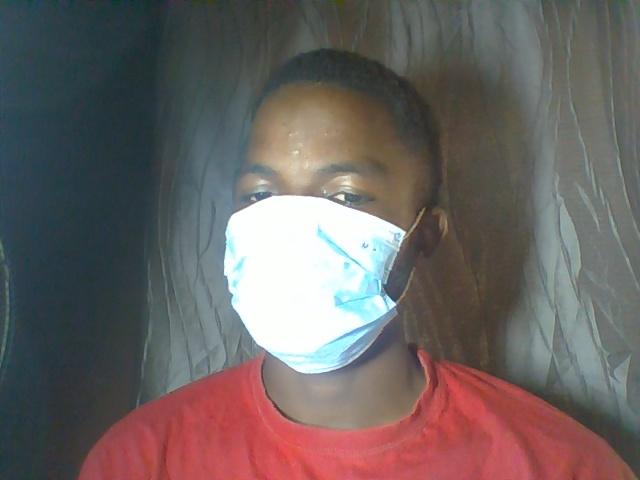MaskOn: (218, 43, 480, 375)
